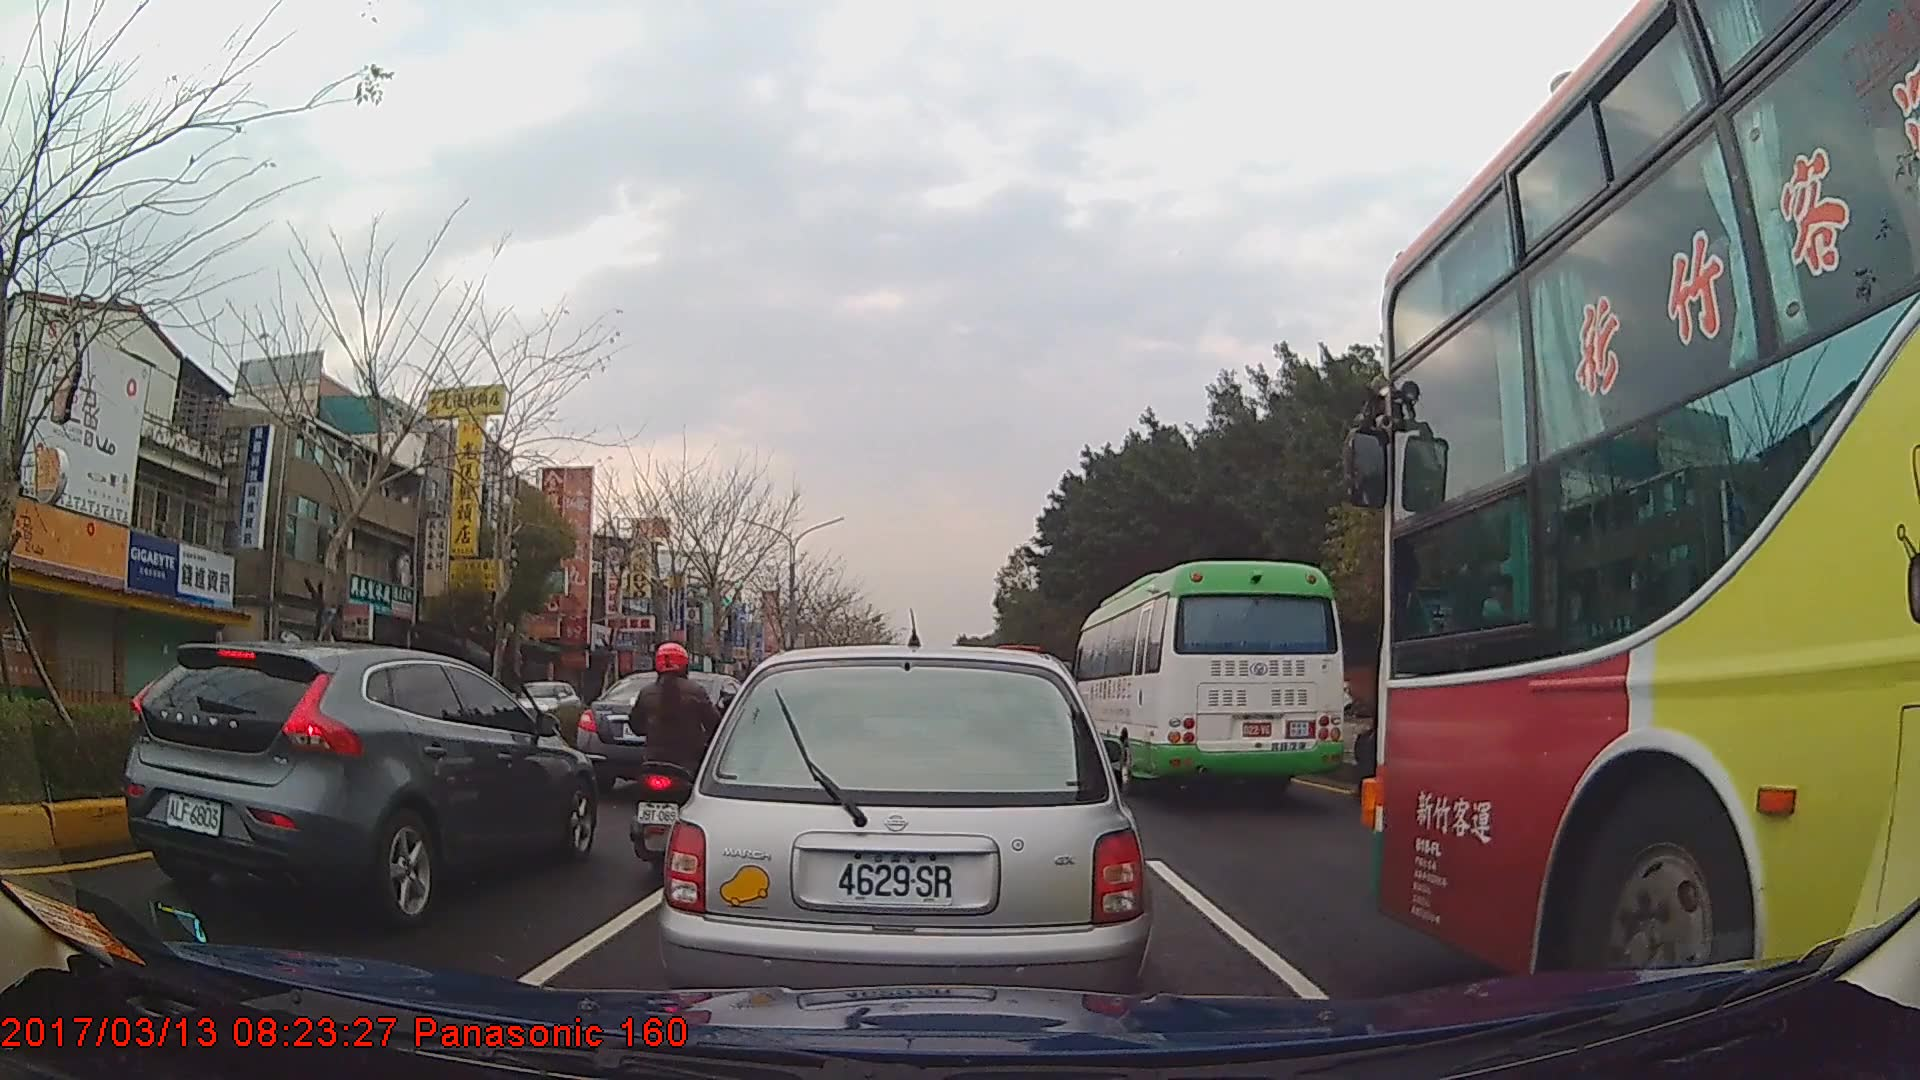rider: (625, 639, 735, 869)
vehicle: (1376, 0, 1920, 1016), (660, 638, 1152, 1026), (121, 638, 596, 930), (1069, 556, 1344, 799), (577, 668, 764, 791), (506, 680, 578, 730)
